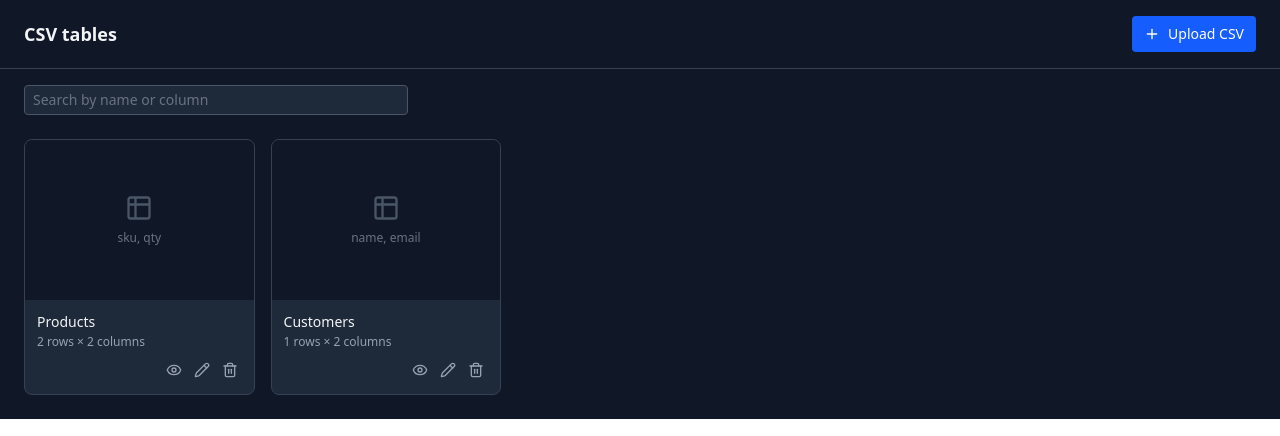
Test: CsvSection › confirms, then removes a table
Expected: the text "Products" is shown, x1=37 y1=312 x2=95 y2=332
Step 1. Click the button named "Delete" below "2 rows × 2 columns" → (230, 370), box x1=218 y1=358 x2=242 y2=382
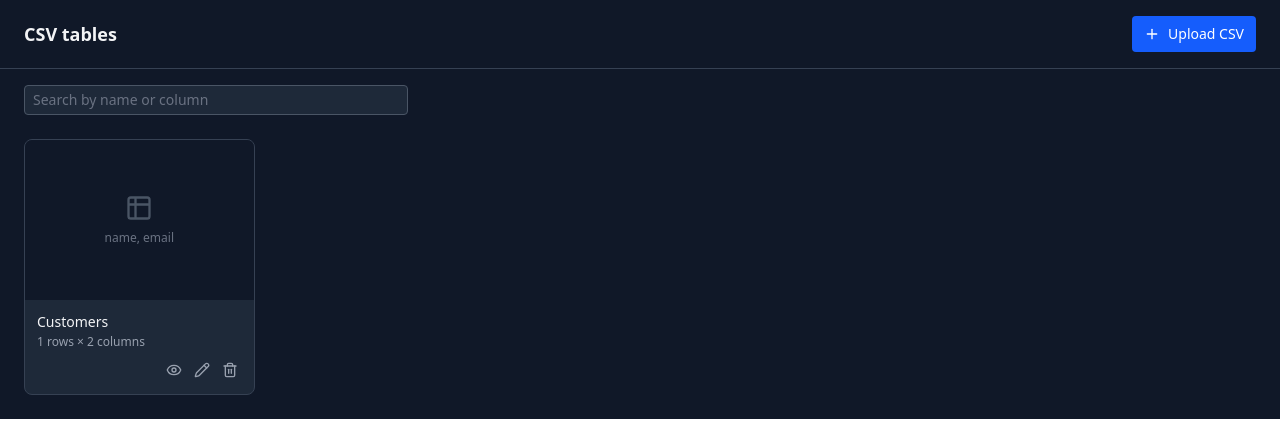
Result: the text "Products" is gone
